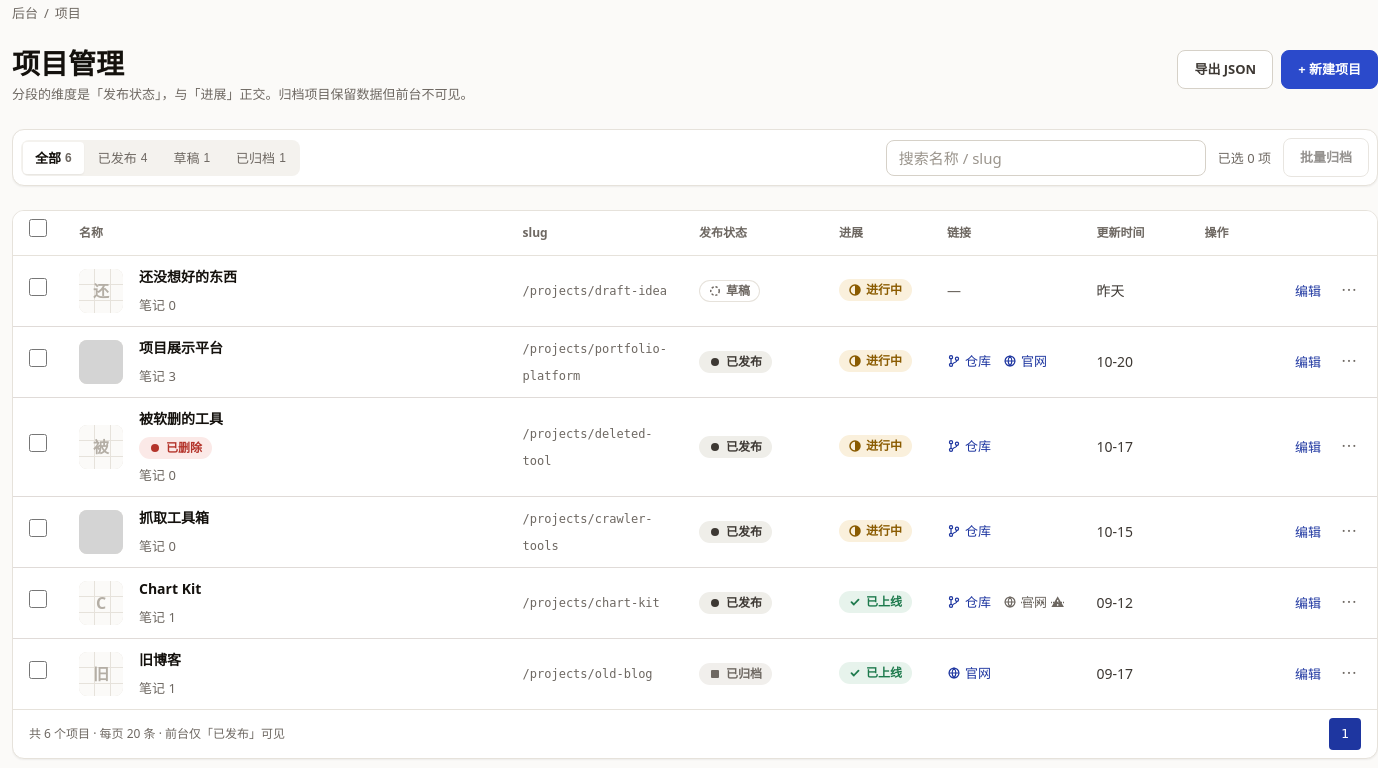
Scenario: ProjectListView › 分段带计数，点击「草稿」只留草稿（计数不随分段变化）
Expected: the link "项目展示平台" is shown, [139,334,223,360]
# 计数由后端 counts 给，与分段无关：切换分段后仍是同一个数
Click the button "草稿 1". click: click(192, 158)
box: [161,142,222,174]
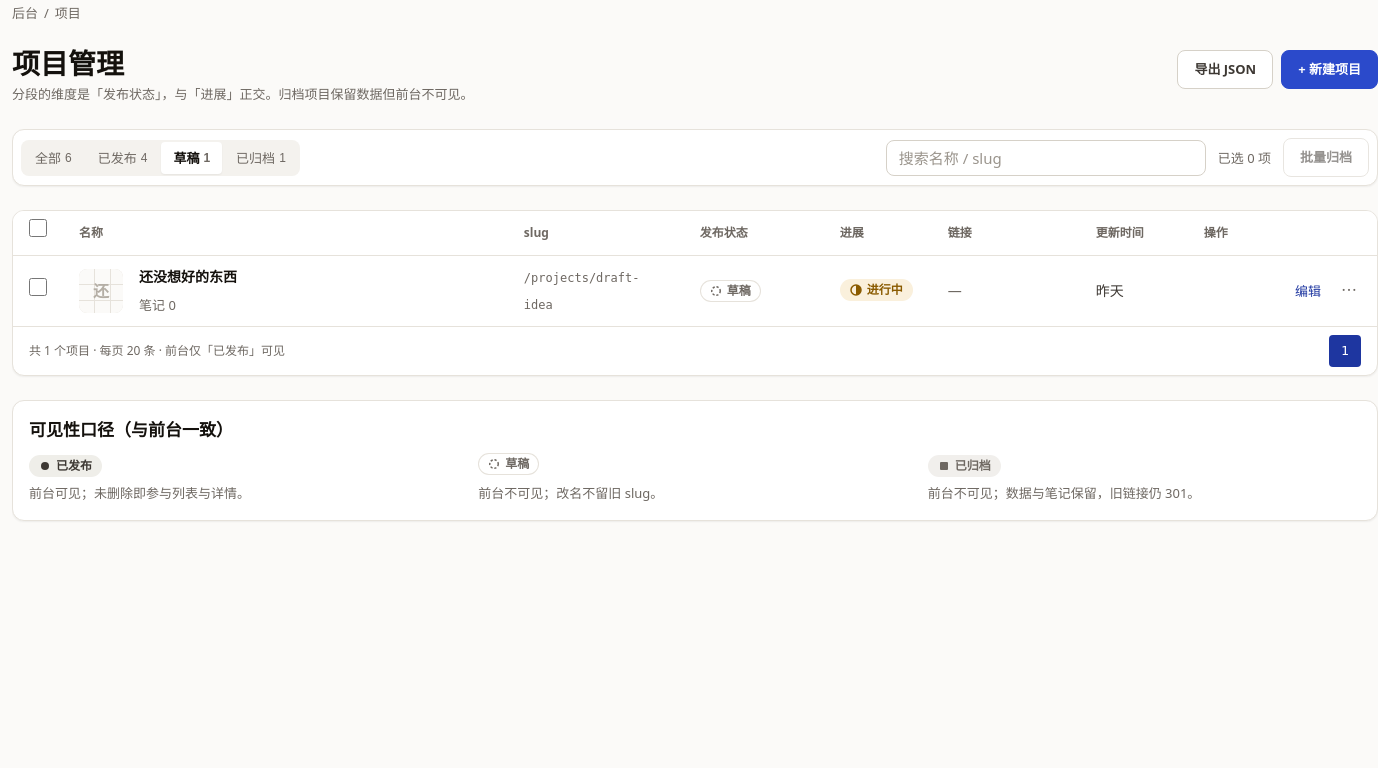
Expected: the row "还 还没想好的东西 笔记 0 /projects/draft-idea 草稿 进行中 — 昨天 编辑 ⋯" is shown, [13,255,1377,326]
Result: the link "Chart Kit" is gone
